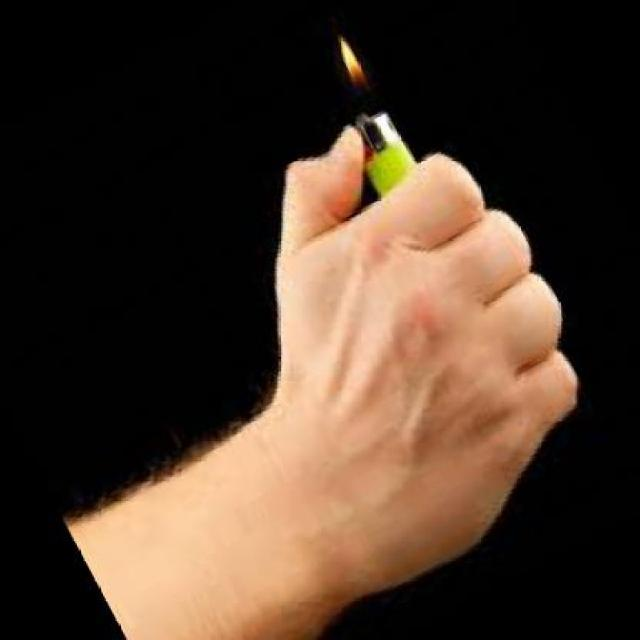Fire: (328, 26, 391, 113)
